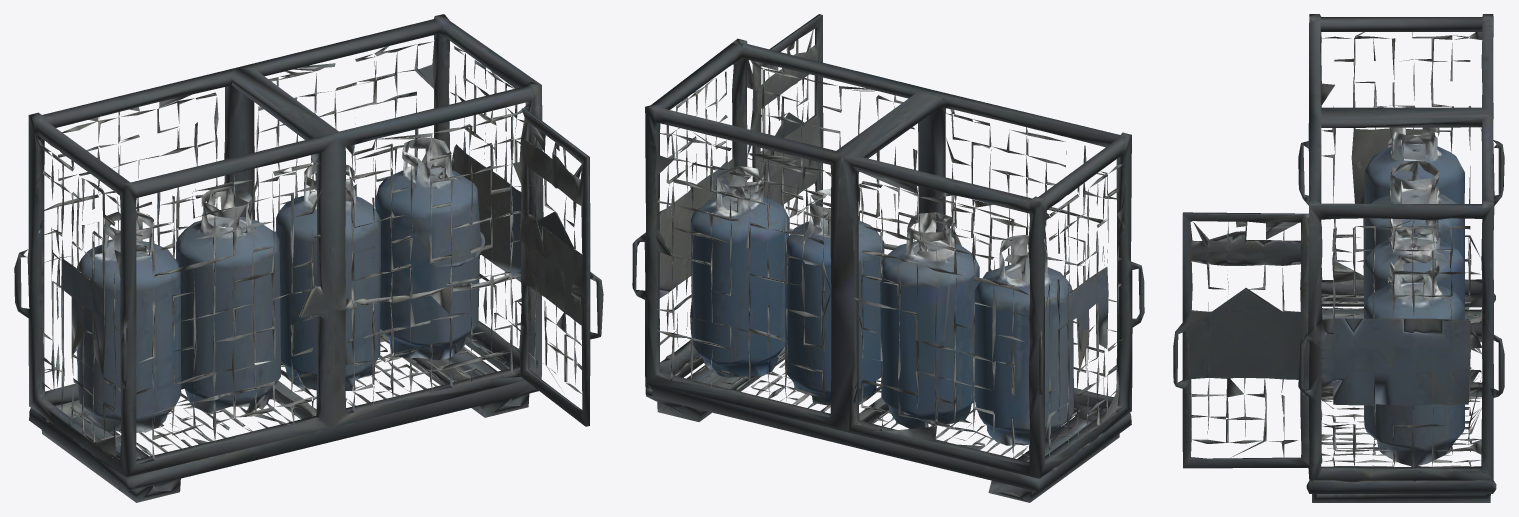
File: becoGasCage.glb
3 renders of one model, left to right at view 1: azimuth 30°, elevation 25°; view 2: azimuth 150°, elevation 25°; view 3: azimuth 270°, elevation 25°, orthographic. The views are drawn at different scales.
Size of the model in its own units: 1.89 by 1.34 by 1.33.
1 material, 1 textured.
